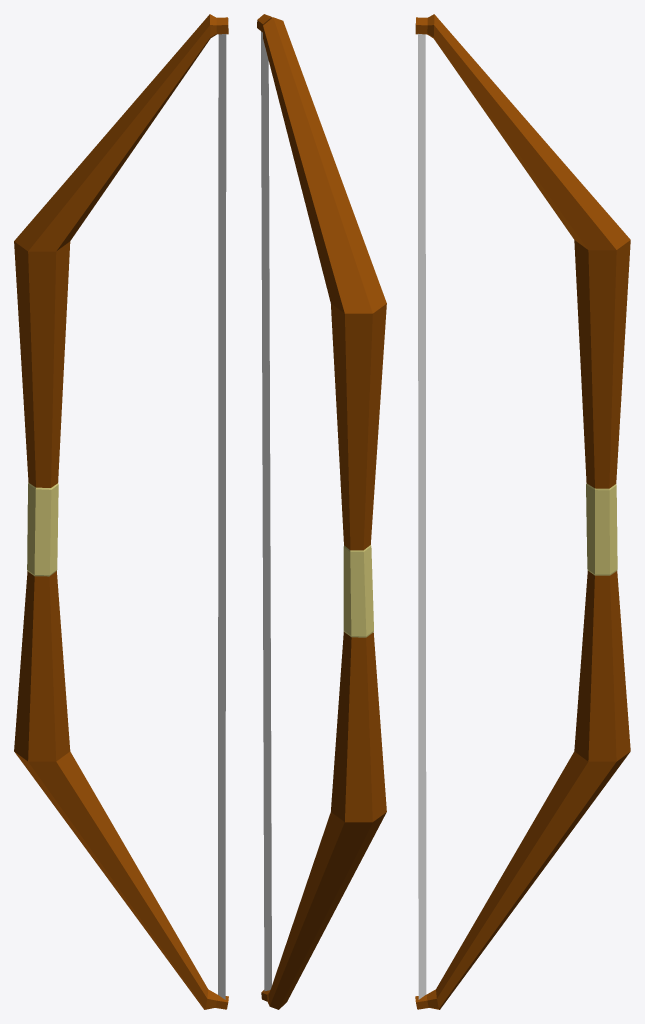
File: Bow.fbx
3 renders of one model, left to right at view 1: azimuth 90°, elevation 25°; view 2: azimuth 210°, elevation 25°; view 3: azimuth 270°, elevation 25°, orthographic.
Parts seen in each view (by area): view 1: Cylinder; view 2: Cylinder; view 3: Cylinder.
Boxes of the visible parts, x1,y1,x2,y2 form: Cylinder: [14, 14, 228, 1009]; Cylinder: [257, 14, 386, 1009]; Cylinder: [415, 14, 630, 1009].
Bounding box in the file's own units: 8.66 × 195 × 38.19.
